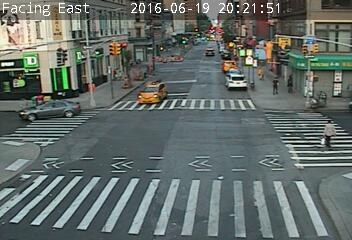neg: (329, 78, 348, 103), (307, 73, 325, 97), (114, 70, 132, 93), (312, 87, 330, 110), (245, 78, 259, 97), (228, 51, 242, 69), (87, 82, 98, 97)
pos: (314, 116, 342, 154), (267, 73, 286, 99), (282, 72, 300, 95), (253, 61, 268, 82)
